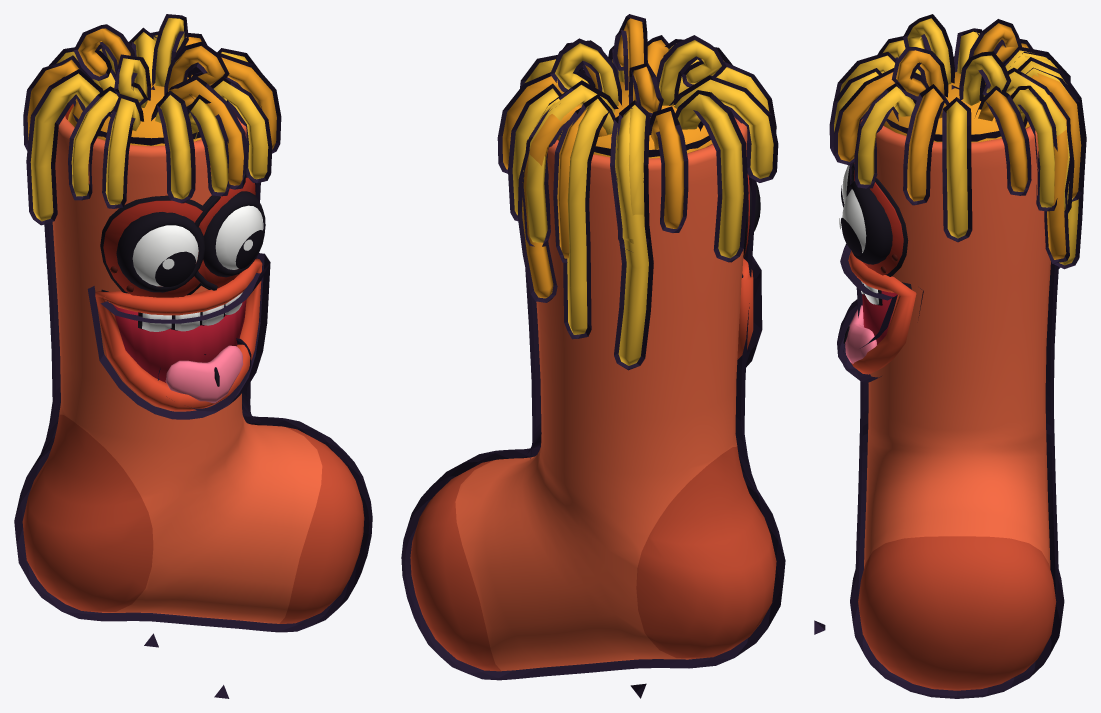
Rendered from PuppetSupreme_R.glb.
3 views of the same model, side by side, from view 1: azimuth 30°, elevation 25°; view 2: azimuth 150°, elevation 25°; view 3: azimuth 270°, elevation 25° (orthographic). The views are drawn at different scales.
Visible parts, largest first — view 1: PuppetSupreme_R, PuppetSupreme_R_Outline; view 2: PuppetSupreme_R, PuppetSupreme_R_Outline; view 3: PuppetSupreme_R, PuppetSupreme_R_Outline.
Boxes of the visible parts, x1,y1,x2,y2 form: PuppetSupreme_R: [22, 18, 364, 623]; PuppetSupreme_R_Outline: [14, 14, 372, 632]; PuppetSupreme_R: [410, 18, 776, 671]; PuppetSupreme_R_Outline: [401, 14, 785, 680]; PuppetSupreme_R: [834, 18, 1081, 690]; PuppetSupreme_R_Outline: [829, 14, 1086, 698].
Size of the model in its own units: 2.68 by 4.84 by 1.98.
1 material, 1 textured.
